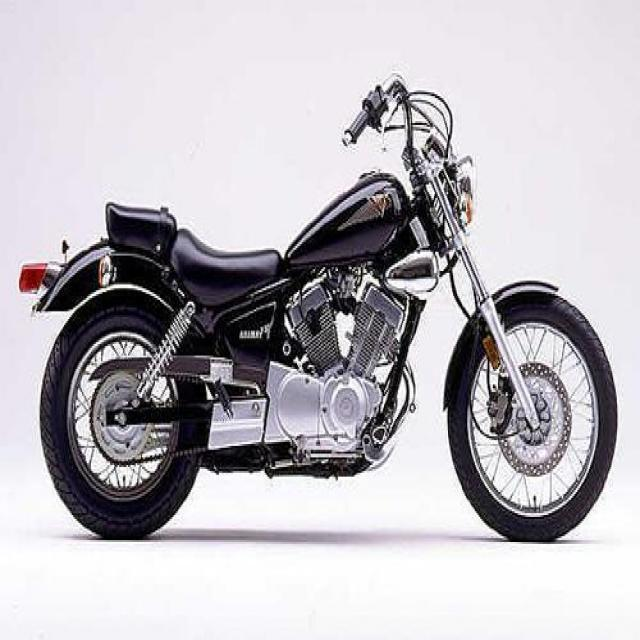Motorcycle: (38, 67, 624, 544)
